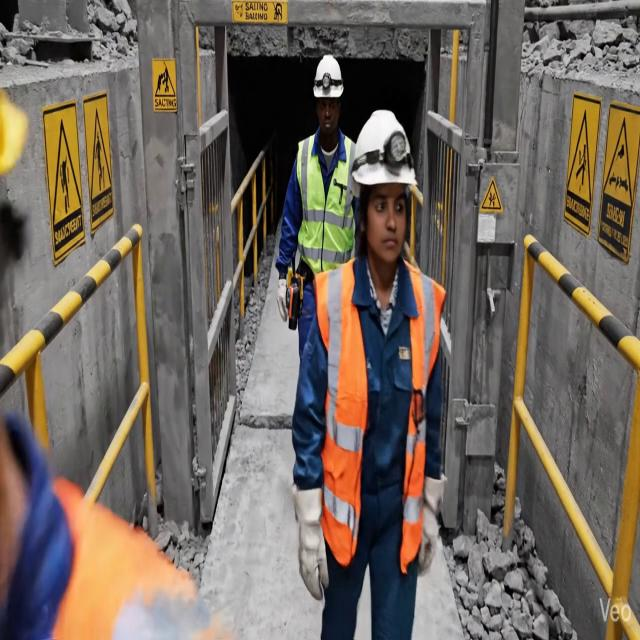Vest: (400, 264, 444, 573), (297, 136, 354, 273)
Worker: (293, 111, 445, 639), (0, 414, 222, 639), (276, 55, 356, 359)
helmet: (352, 111, 416, 196), (0, 92, 27, 175), (314, 55, 343, 98)
